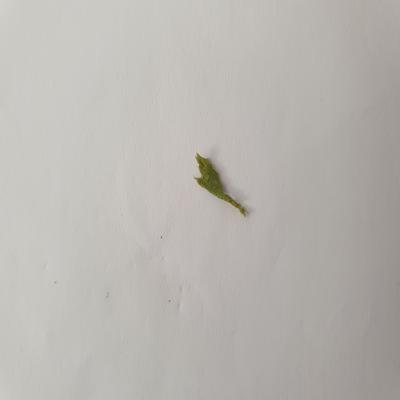plastic: (186, 150, 254, 221)
